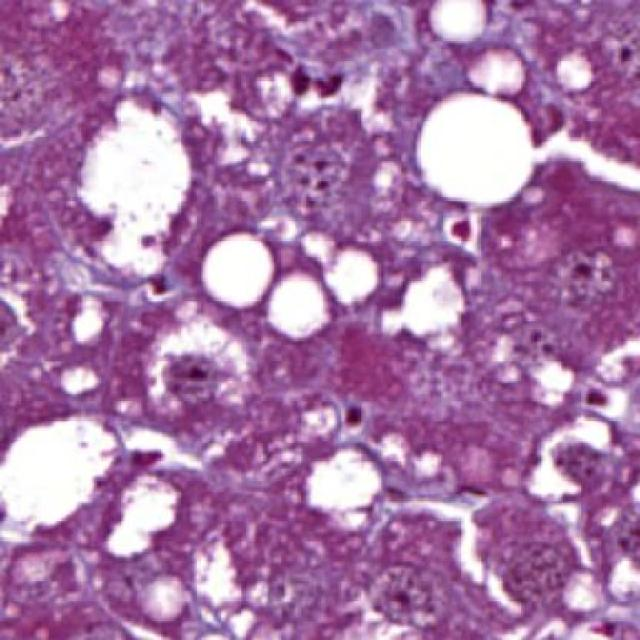steatosis: (418, 96, 534, 210), (200, 230, 277, 314)
